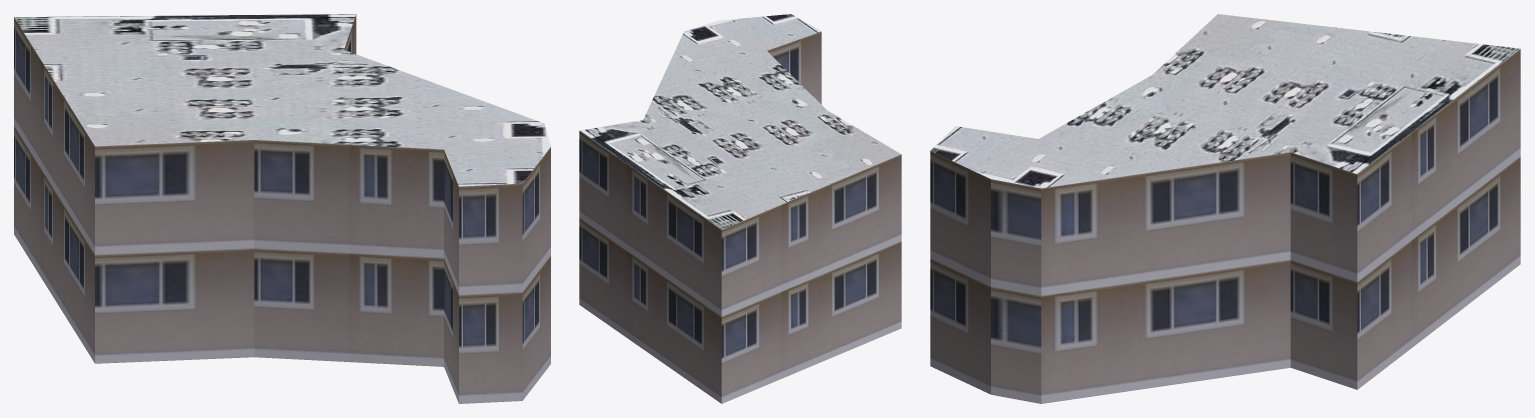
Rendered from ResTex__2602.fbx.
The picture shows the model from 3 angles, left to right: view 1: azimuth 30°, elevation 25°; view 2: azimuth 150°, elevation 25°; view 3: azimuth 270°, elevation 25°; orthographic projection. The views are drawn at different scales.
Parts seen in each view (by area): view 1: CityEngineMaterial_21_m, CityEngineMaterial_m; view 2: CityEngineMaterial_21_m, CityEngineMaterial_m; view 3: CityEngineMaterial_21_m, CityEngineMaterial_m.
Part boxes in pixels (x1,y1,x2,y2): CityEngineMaterial_21_m: (14,14,550,403); CityEngineMaterial_m: (14,14,550,186); CityEngineMaterial_21_m: (579,31,901,403); CityEngineMaterial_m: (580,14,900,229); CityEngineMaterial_21_m: (930,49,1520,403); CityEngineMaterial_m: (930,14,1519,188).
Size of the model in its own units: 10.42 by 6 by 14.89.
2 materials, 2 textured.
